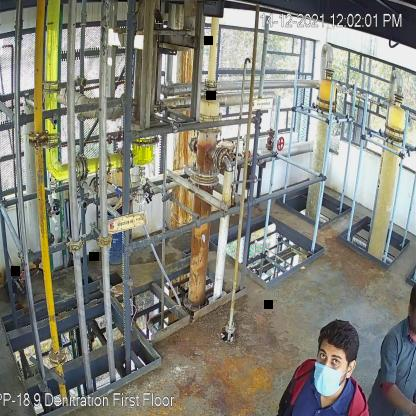no_goggles: (318, 349, 342, 368)
